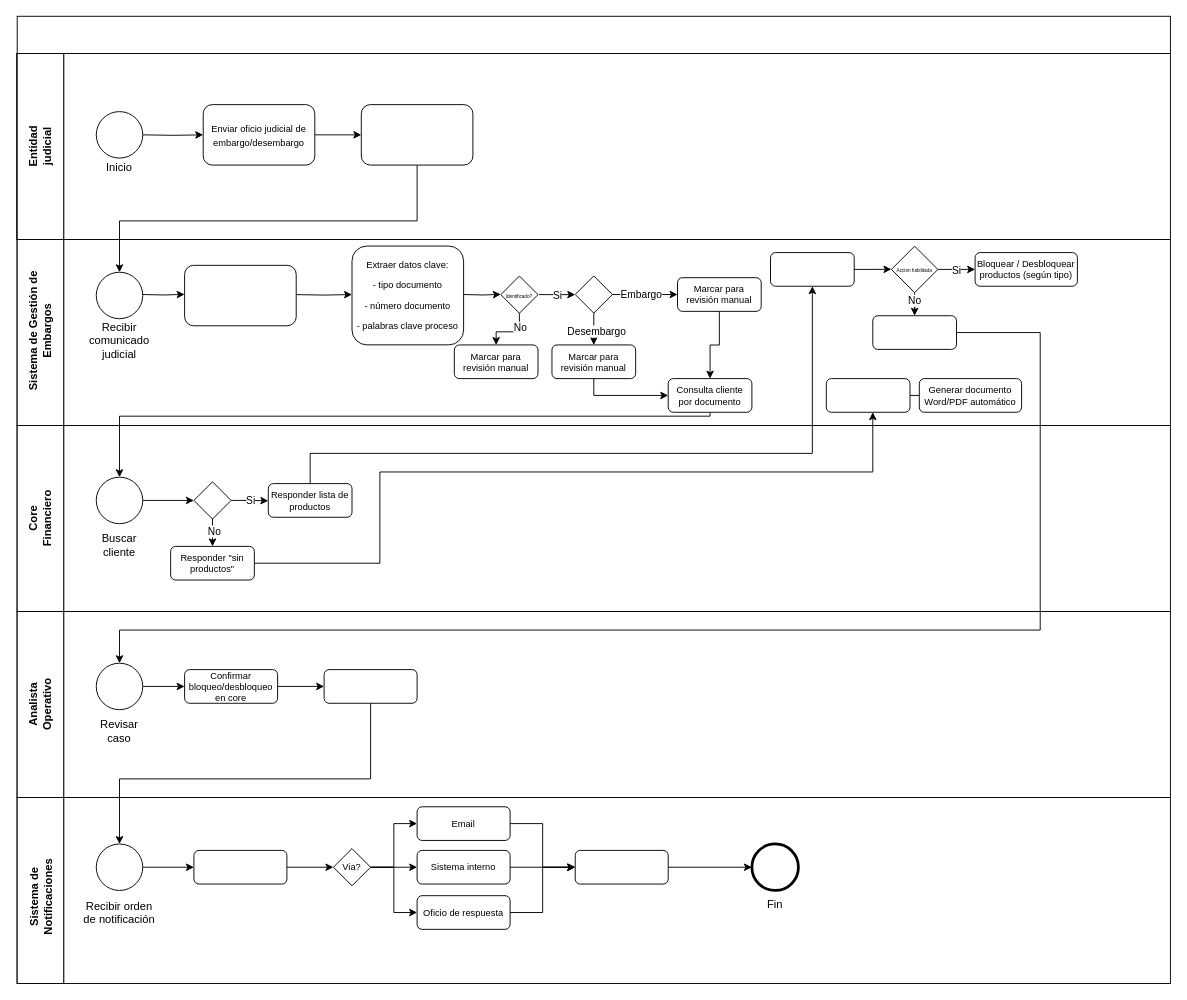
The diagram is 1187 pixels wide and 1000 high, and some of its shapes have lost their labels. The shapes that lost their labels are listed below. From the top down, each one's centre as x and y in pixels, then its label:
At [593,34]: "Gestión Digital de Embargos y Desembargos".
At [416,134]: "Remitir comunicado (PDF/Documento)".
At [812,269]: "Generar informe de productos".
At [240,295]: "Digitalizar documento (OCR)".
At [593,294]: "Tipo?".
At [914,332]: "Crear tarea para analista".
At [867,395]: "Generar respuesta estándar negativa".
At [212,500]: "Produtos?".
At [370,686]: "Completar informe jurídico".
At [240,866]: "Generar mensaje de resultado".
At [621,866]: "Enviar notificación".
